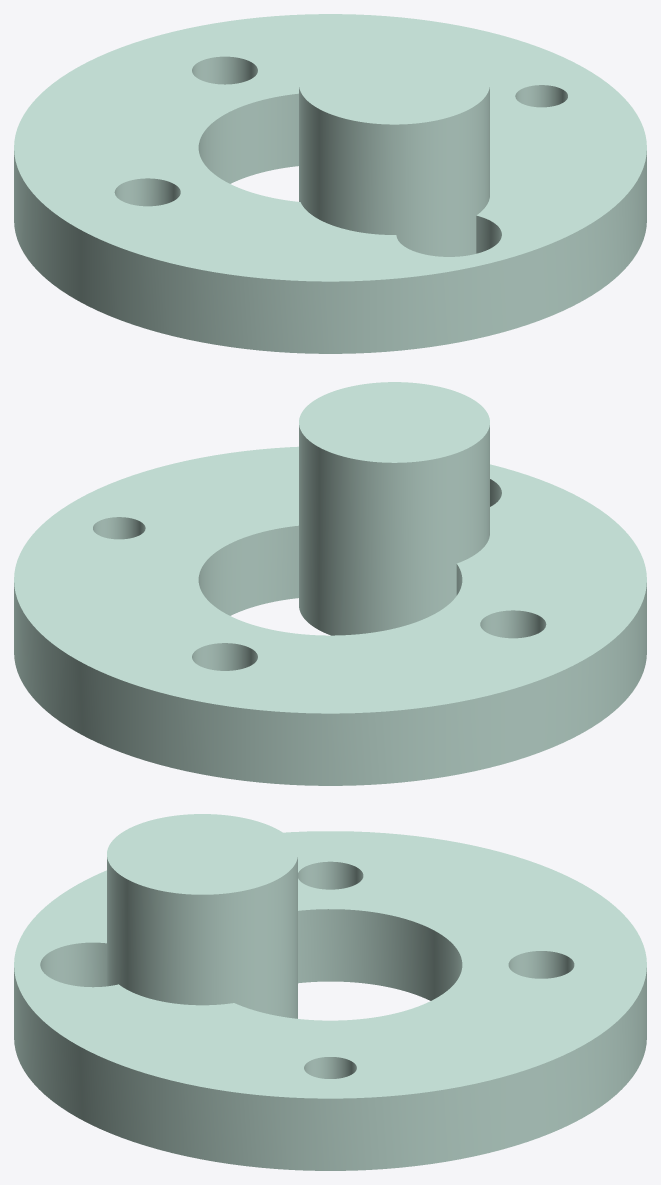
3 renders of one model, top to bottom at view 1: azimuth 30°, elevation 25°; view 2: azimuth 150°, elevation 25°; view 3: azimuth 270°, elevation 25°, orthographic.
Parts seen in each view (by area): view 1: Renderer Node; view 2: Renderer Node; view 3: Renderer Node.
Part boxes in pixels (left/top/right/bottom): Renderer Node: left=14, top=14, right=646, bottom=353; Renderer Node: left=14, top=382, right=646, bottom=785; Renderer Node: left=14, top=814, right=646, bottom=1170.
Size of the model in its own units: 1.18 by 0.375 by 1.18.
